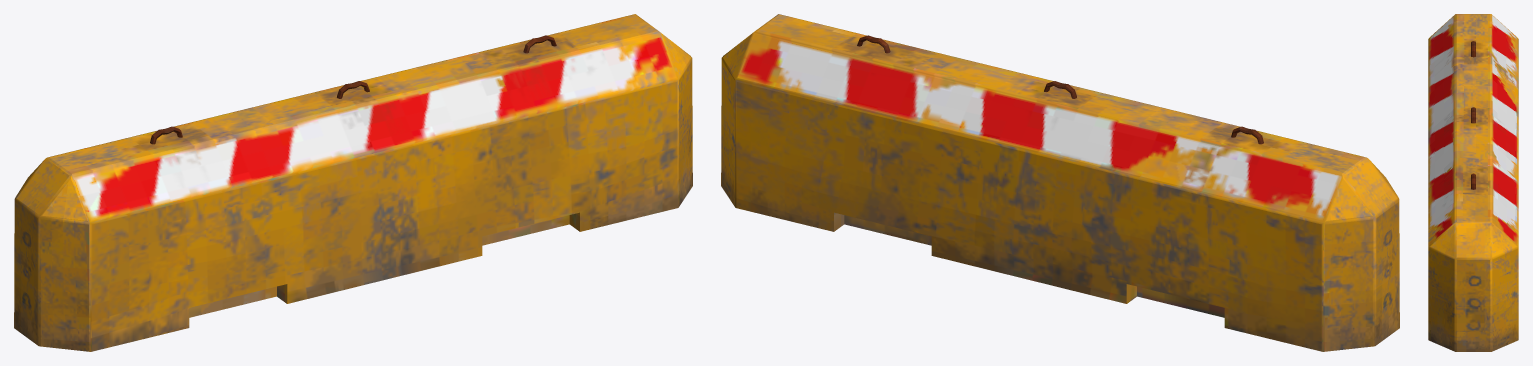
Rendered from ShortBarrier-Set.fbx.
3 views of the same model, side by side, from view 1: azimuth 30°, elevation 25°; view 2: azimuth 150°, elevation 25°; view 3: azimuth 270°, elevation 25° (orthographic). The views are drawn at different scales.
Parts seen in each view (by area): view 1: model; view 2: model; view 3: model.
Boxes of the visible parts, box(x1,y1,x2,y2) form: model: box(14, 14, 692, 351); model: box(721, 14, 1399, 351); model: box(1428, 14, 1518, 351).
Bounding box in the file's own units: 593 × 151 × 98.02.
